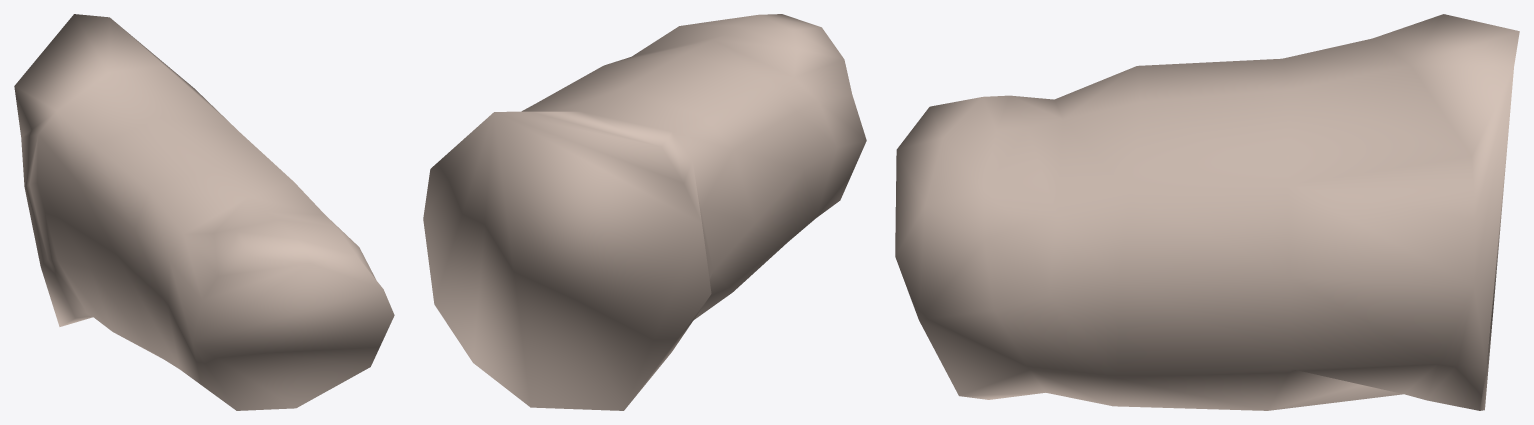
The model's file is RIndex1stPhalange.dae.
The picture shows the model from 3 angles, left to right: view 1: azimuth 30°, elevation 25°; view 2: azimuth 150°, elevation 25°; view 3: azimuth 270°, elevation 25°; orthographic projection. The views are drawn at different scales.
Parts seen in each view (by area): view 1: ShapeIndexedFaceSet; view 2: ShapeIndexedFaceSet; view 3: ShapeIndexedFaceSet.
Boxes of the visible parts, x1=… form: ShapeIndexedFaceSet: x1=14, y1=14, x2=394, y2=410; ShapeIndexedFaceSet: x1=423, y1=14, x2=866, y2=410; ShapeIndexedFaceSet: x1=895, y1=14, x2=1519, y2=410.
Size of the model in its own units: 0.0215 by 0.0404 by 0.0268.
